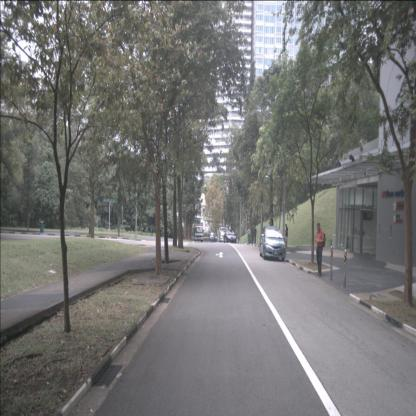human-pedestrian-adult: (314, 222, 326, 278), (284, 224, 288, 248), (253, 224, 257, 244)
vehicle-car: (259, 226, 286, 262), (223, 230, 237, 244), (217, 227, 229, 243), (210, 232, 216, 243)
vehicle-motorcycle: (212, 233, 219, 242)
vehicle-truck: (194, 222, 203, 242)
